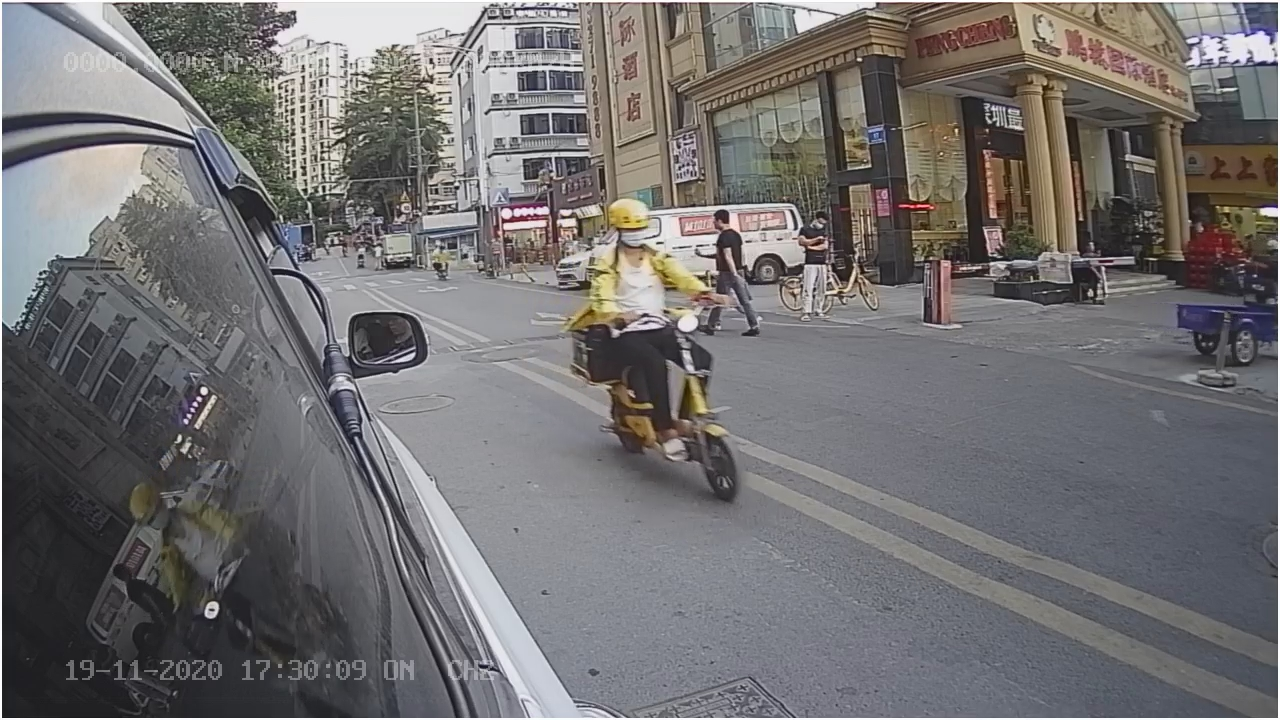person: (585, 200, 702, 308)
